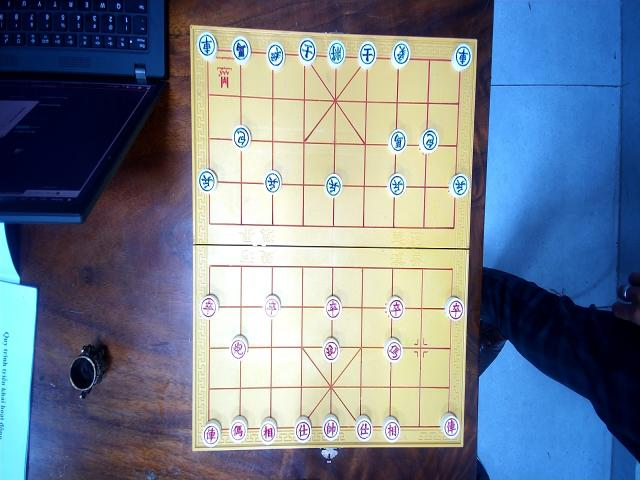piece: (450, 42, 472, 70), (230, 35, 250, 65), (197, 31, 217, 60), (448, 172, 470, 198), (440, 411, 460, 439), (326, 39, 346, 67), (202, 420, 222, 447), (390, 41, 410, 68), (298, 36, 317, 64), (266, 42, 285, 70), (382, 415, 401, 442), (444, 296, 464, 321), (199, 294, 219, 319), (387, 128, 407, 153), (418, 128, 438, 153), (354, 415, 373, 441), (383, 336, 402, 362), (387, 171, 406, 197), (231, 124, 250, 150), (322, 414, 340, 441), (294, 416, 312, 443), (259, 417, 277, 444), (229, 416, 247, 443), (358, 41, 376, 68), (322, 336, 340, 362), (230, 333, 248, 359), (198, 168, 216, 193), (386, 295, 404, 319), (324, 173, 342, 197), (324, 296, 341, 320), (264, 294, 280, 318), (264, 170, 280, 194)
